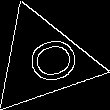O_W: (11, 31, 76, 90)
